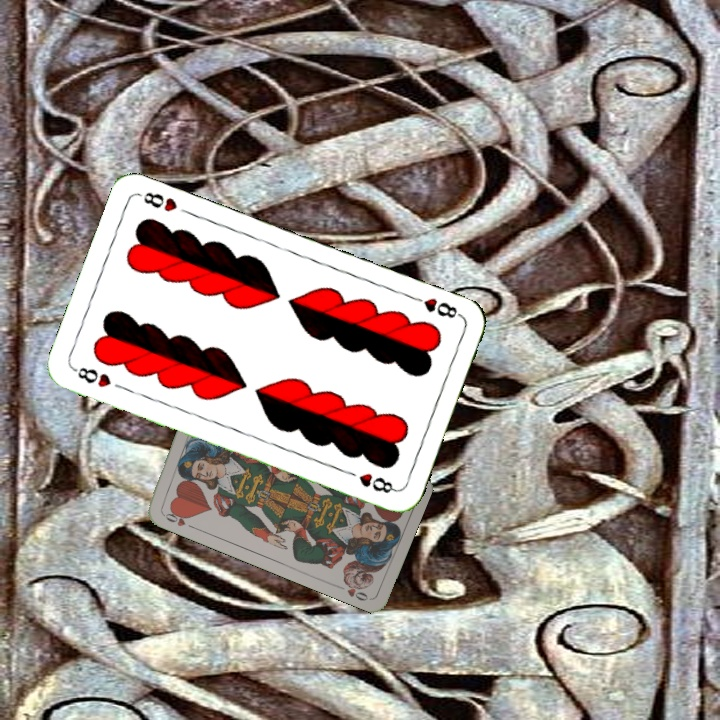H8: (407, 292, 464, 321), (69, 363, 114, 390)
HO: (158, 506, 197, 531)
